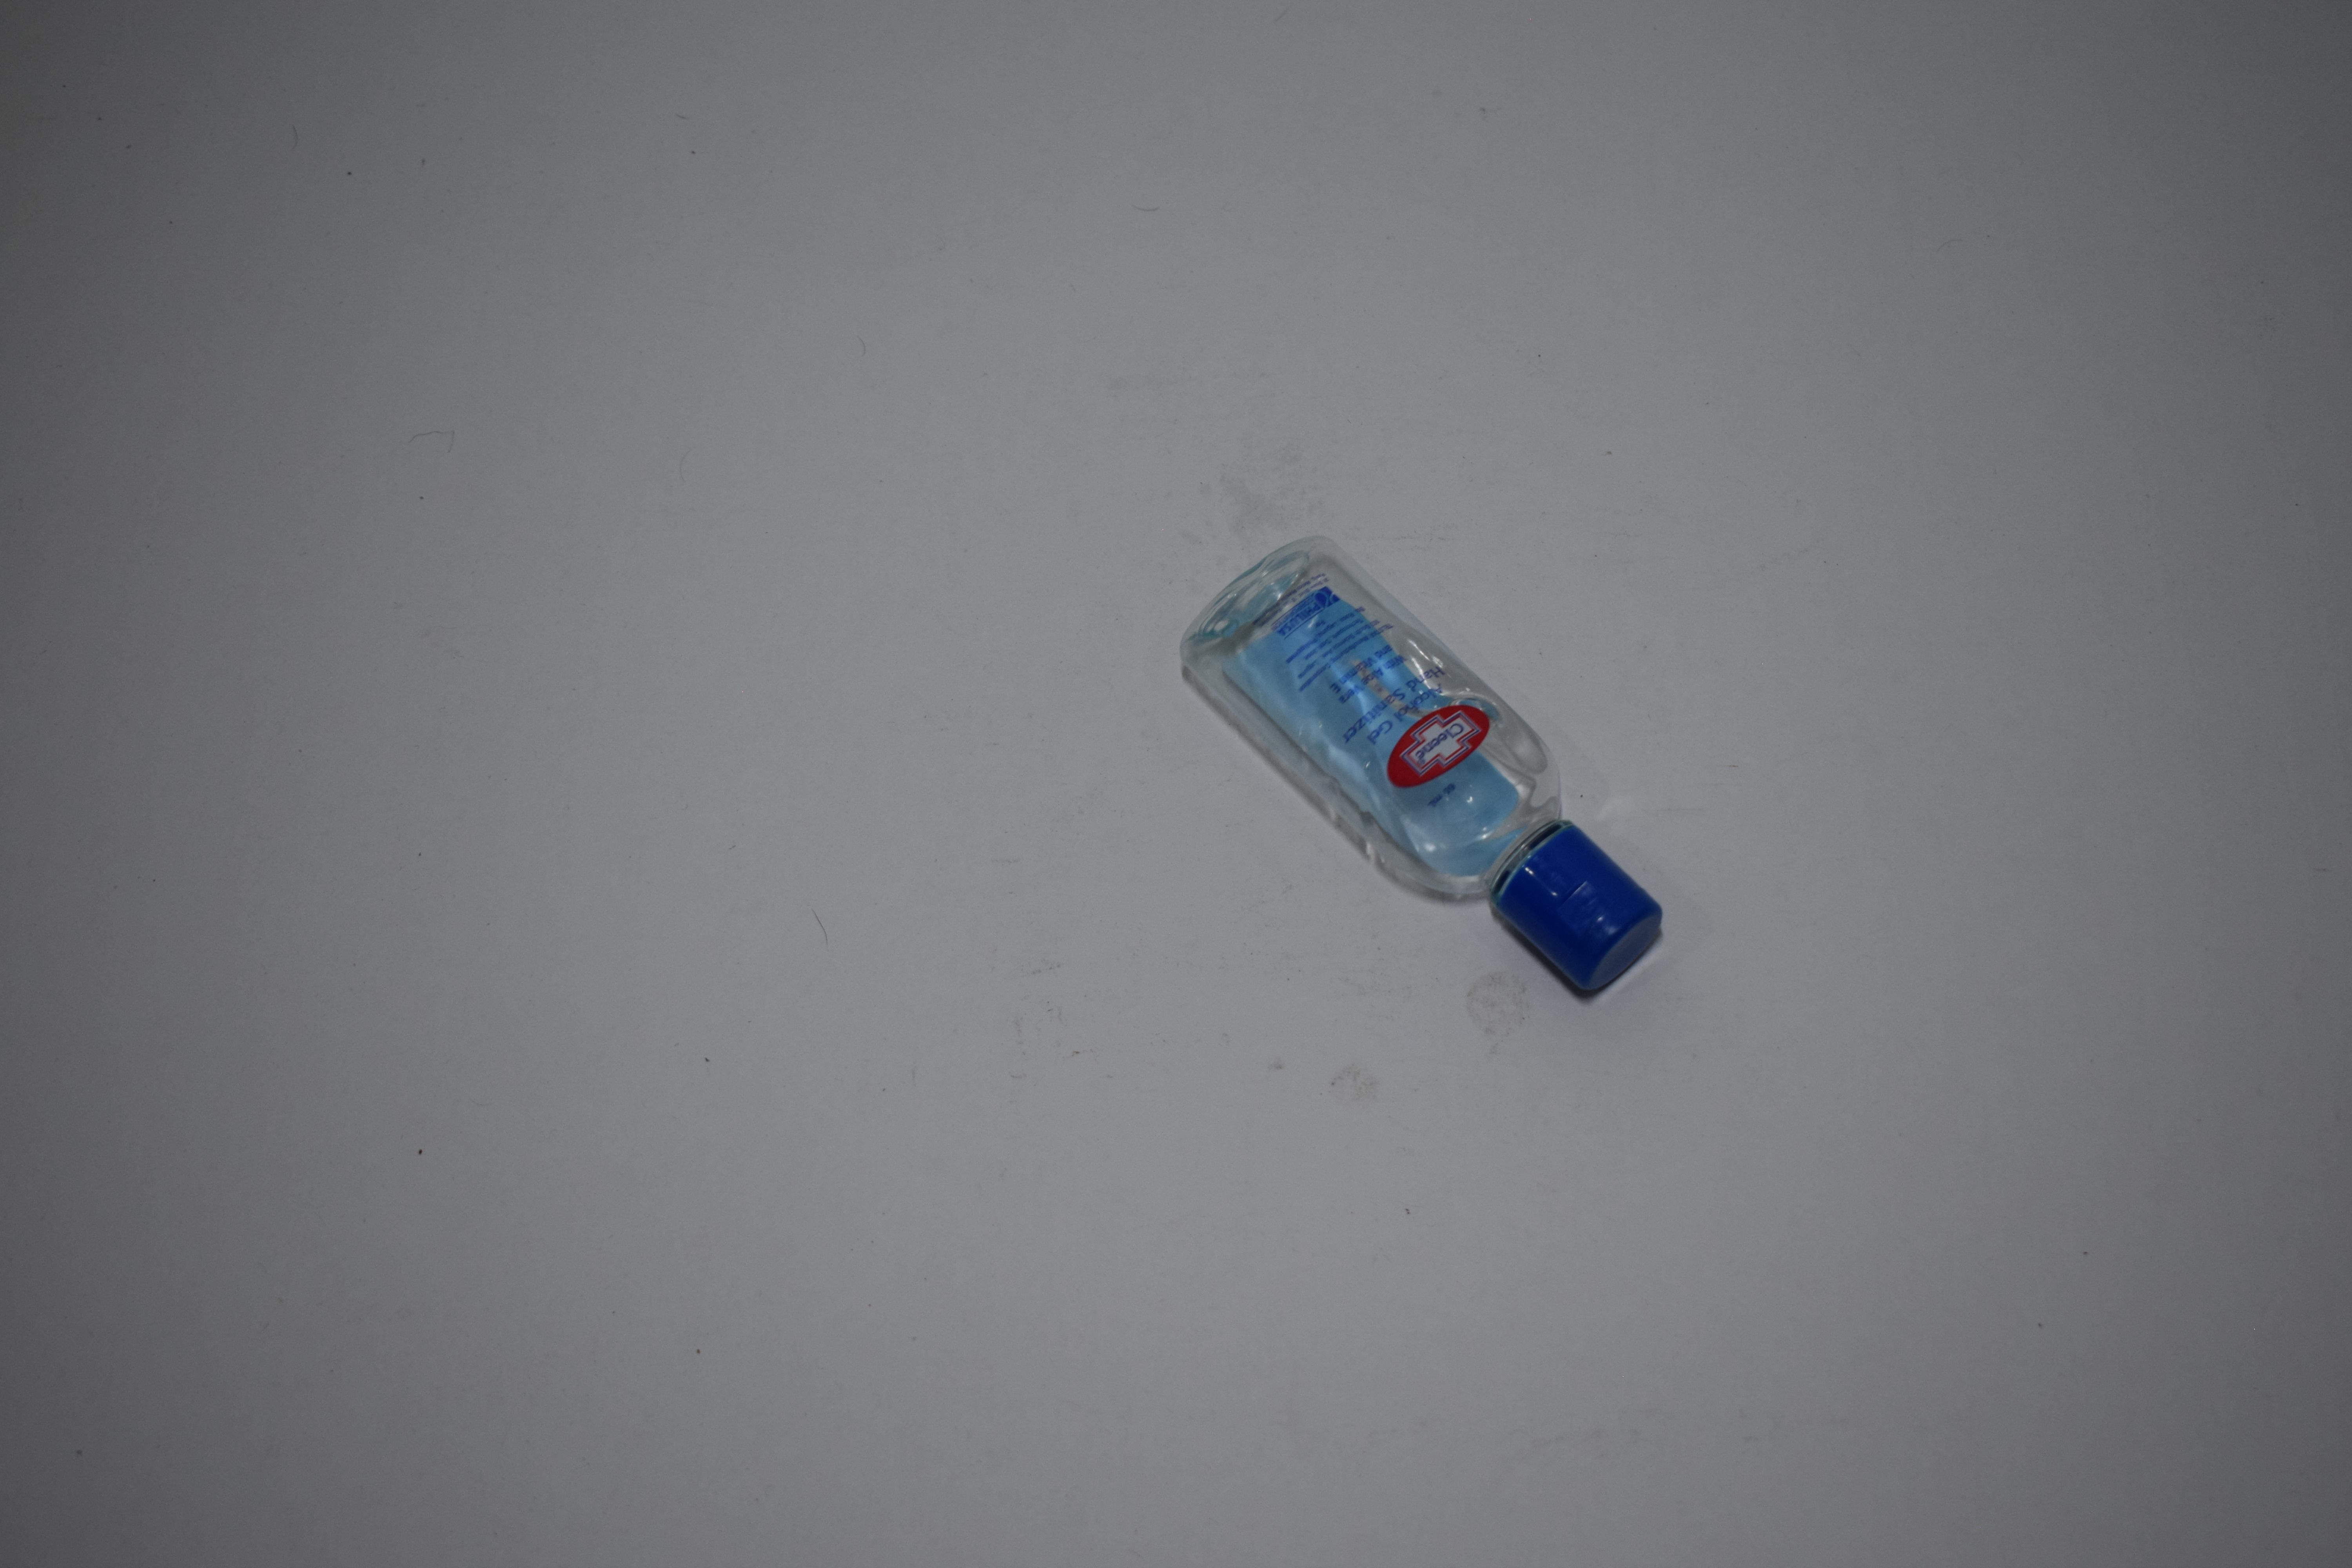bottle: (1169, 536, 1670, 1006)
